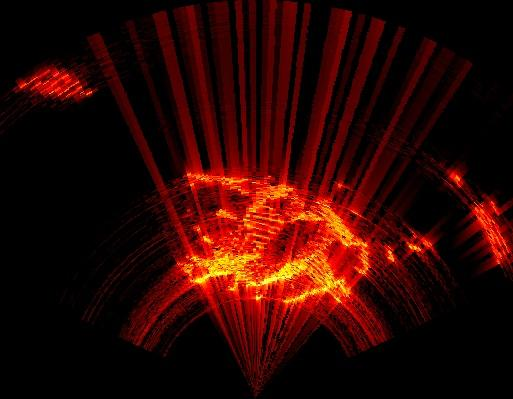shipwreck: (182, 169, 425, 299), (21, 68, 91, 100)
